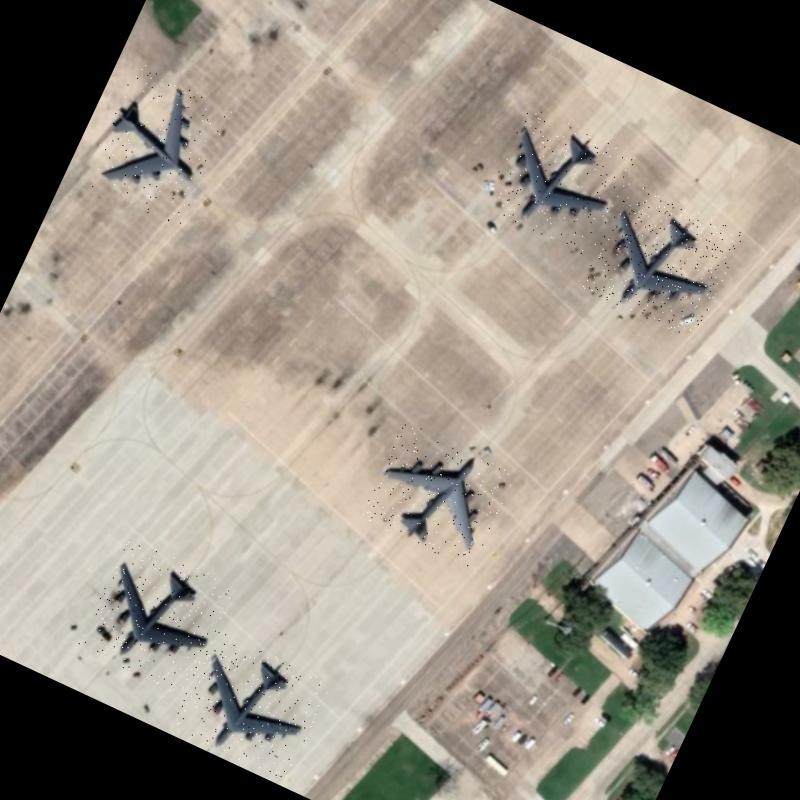A8: (580, 180, 744, 340), (76, 536, 237, 698), (82, 61, 235, 227), (170, 628, 332, 782), (480, 104, 638, 258), (358, 419, 516, 570)
